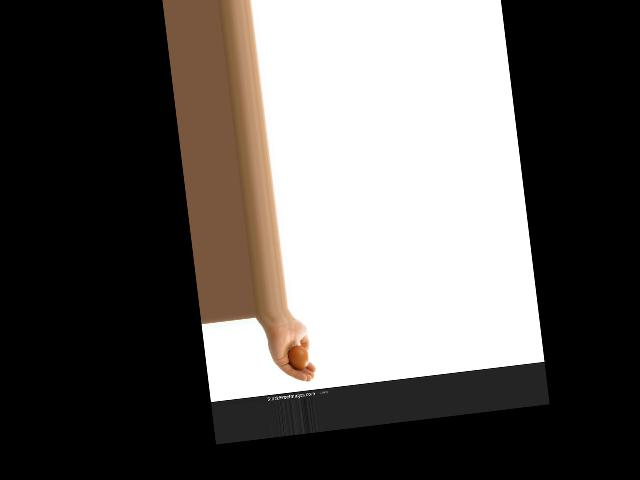egg: (287, 344, 310, 372)
